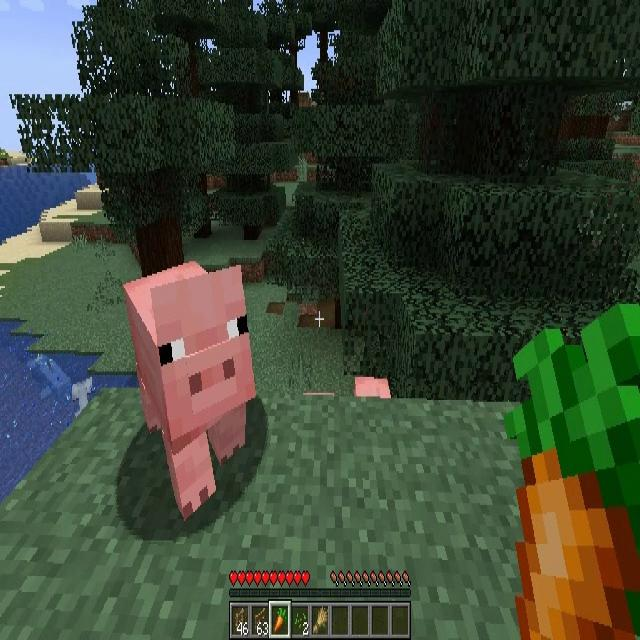pig: (122, 263, 258, 519)
